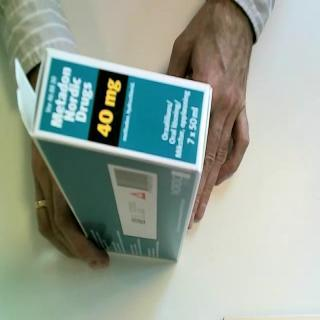metadon_hydrochlorid40mg: (14, 45, 216, 265)
